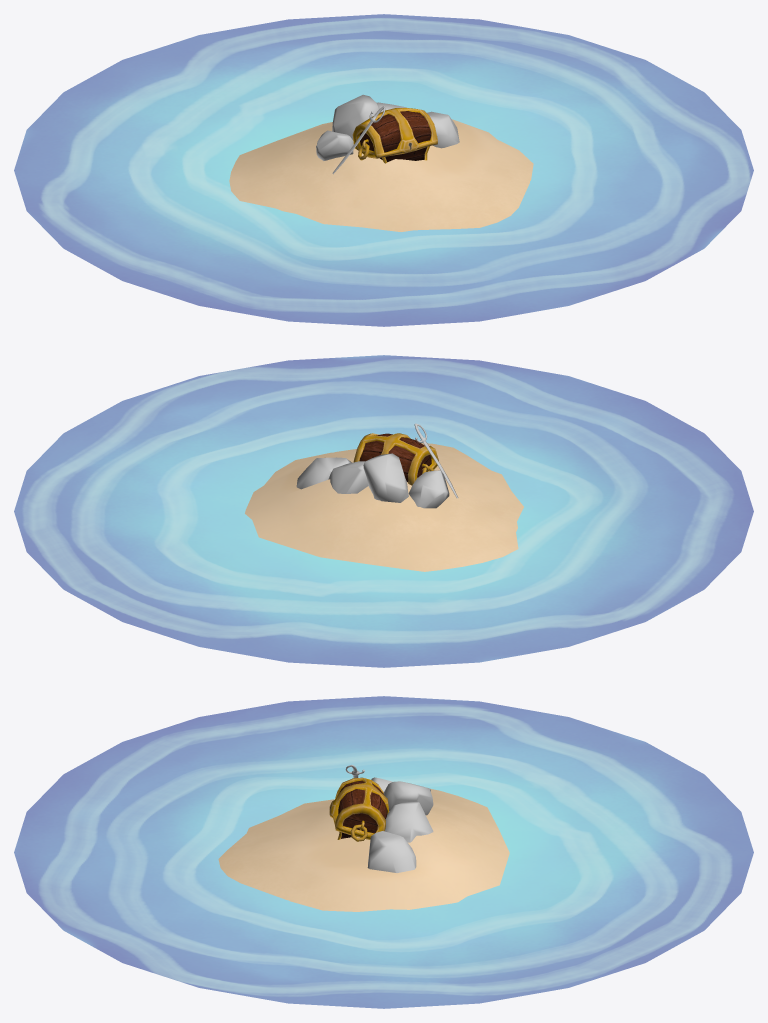
Rendered from Alles samen.fbx.
3 renders of one model, top to bottom at view 1: azimuth 30°, elevation 25°; view 2: azimuth 150°, elevation 25°; view 3: azimuth 270°, elevation 25°, orthographic.
Visible parts, largest first — view 1: pDisc2, pDisc1, pasted__pCube4, pasted__pCube5, pasted__low1, pasted__low2, pasted__low3; view 2: pDisc2, pDisc1, pasted__low1, pasted__pCube4, pasted__low2, pasted__pCube5, pasted__low, pasted__low3; view 3: pDisc2, pDisc1, pasted__pCube4, pasted__low3, pasted__low, pasted__pCube5, pasted__low1.
Part boxes in pixels (x1,y1,x2,y2): pDisc2: (14, 14, 753, 326); pDisc1: (229, 119, 533, 231); pasted__pCube4: (352, 108, 437, 158); pasted__pCube5: (359, 111, 431, 161); pasted__low1: (332, 94, 379, 139); pasted__low2: (316, 130, 353, 160); pasted__low3: (427, 111, 459, 148); pDisc2: (14, 355, 753, 667); pDisc1: (245, 443, 523, 571); pasted__low1: (363, 453, 408, 502); pasted__pCube4: (353, 433, 438, 485); pasted__low2: (408, 470, 449, 508); pasted__pCube5: (359, 433, 431, 482); pasted__low: (328, 461, 368, 493); pasted__low3: (296, 457, 351, 489); pDisc2: (14, 696, 753, 1008); pDisc1: (218, 788, 509, 911); pasted__pCube4: (329, 777, 388, 839); pasted__low3: (367, 831, 416, 872); pasted__low: (385, 801, 433, 842); pasted__pCube5: (338, 780, 387, 838); pasted__low1: (383, 781, 433, 815).
Size of the model in its own units: 12.47 by 1.79 by 12.47.
